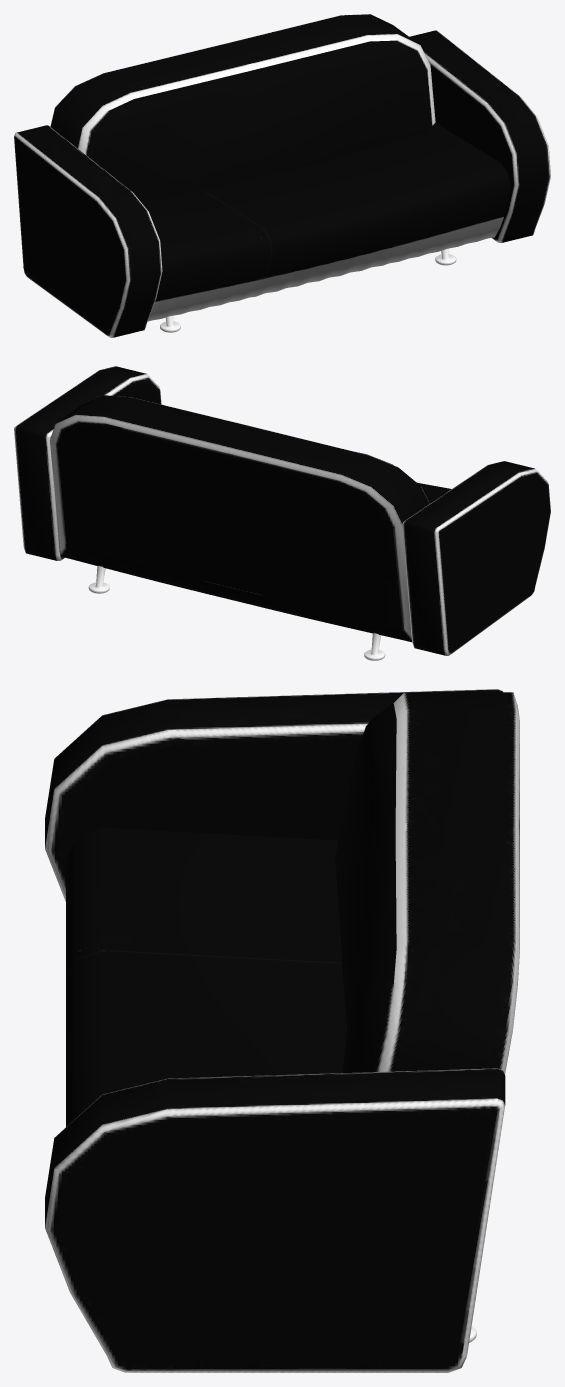
The model's file is p_sofa_50s.glb.
3 renders of one model, top to bottom at view 1: azimuth 30°, elevation 25°; view 2: azimuth 150°, elevation 25°; view 3: azimuth 270°, elevation 25°, orthographic. The views are drawn at different scales.
Visible parts, largest first — view 1: Cube; view 2: Cube; view 3: Cube.
Boxes of the visible parts, bbox=[...] form: Cube: bbox=[14, 14, 550, 337]; Cube: bbox=[14, 366, 550, 660]; Cube: bbox=[45, 689, 519, 1372].
Size of the model in its own units: 8200 by 3475 by 3972.
4 materials, 3 textured.
